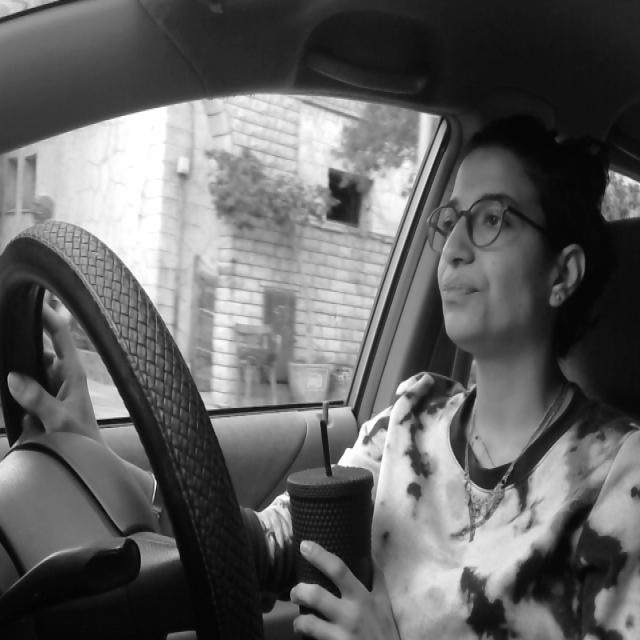drinking: (282, 407, 382, 640)
